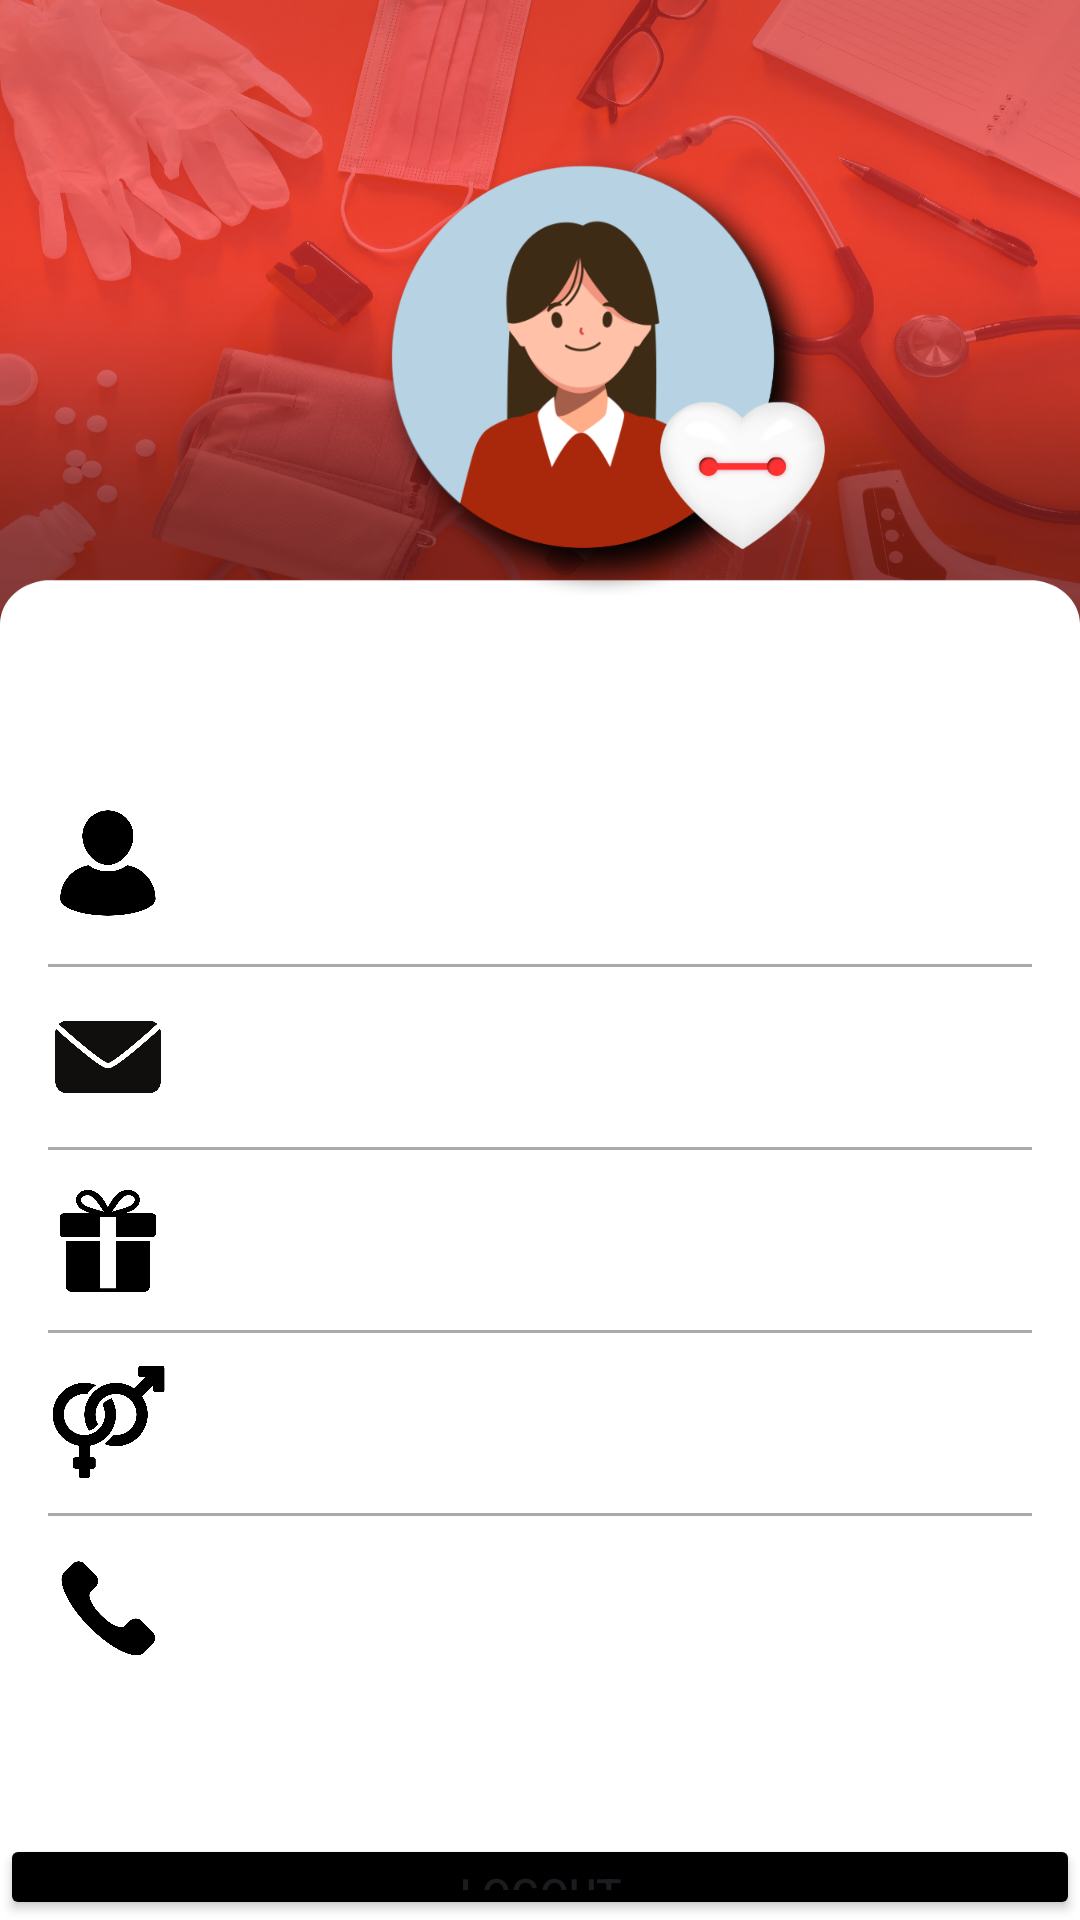

Icon bounding boxes for this 1080x1920 phone screenshot, format (x1,y1,x2,y2):
birthday: (60,1190,156,1292)
Email: (55,1021,161,1093)
gender: (53,1366,165,1478)
person: (60,810,156,916)
phone: (61,1561,155,1655)
